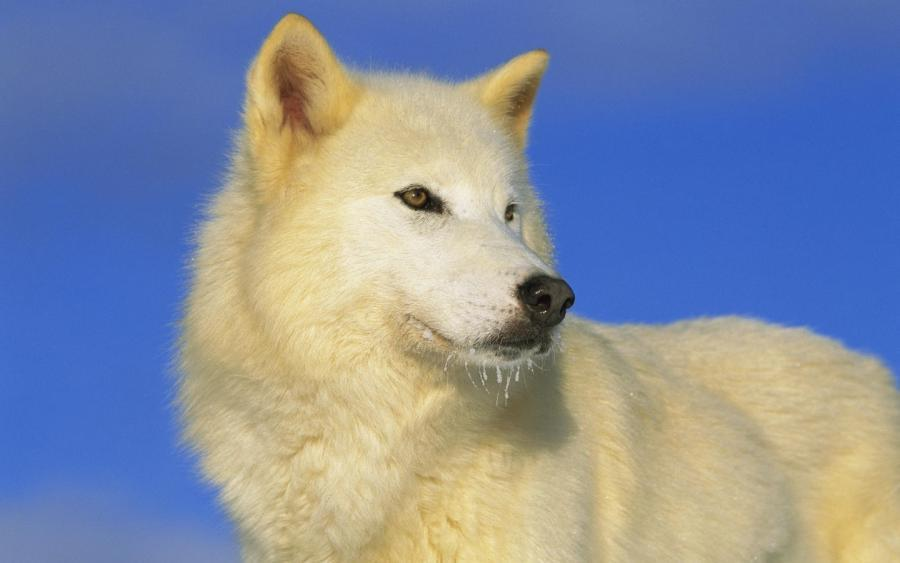Lobo: (190, 3, 771, 548)
